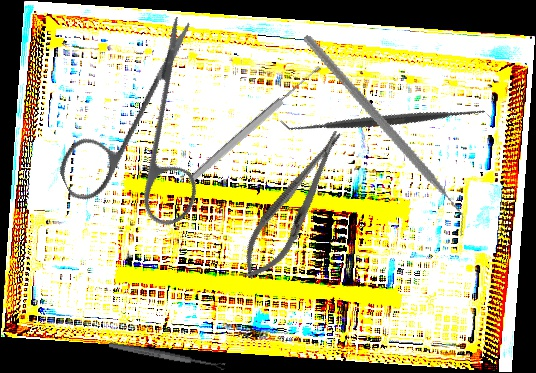Chopper: (261, 34, 506, 238)
Iris Scissors: (20, 13, 266, 259)
Needle Holder: (231, 121, 357, 289)
Spatula Surgical: (279, 13, 493, 227)
Surgical Spoon: (186, 63, 324, 185), (108, 340, 226, 372)
